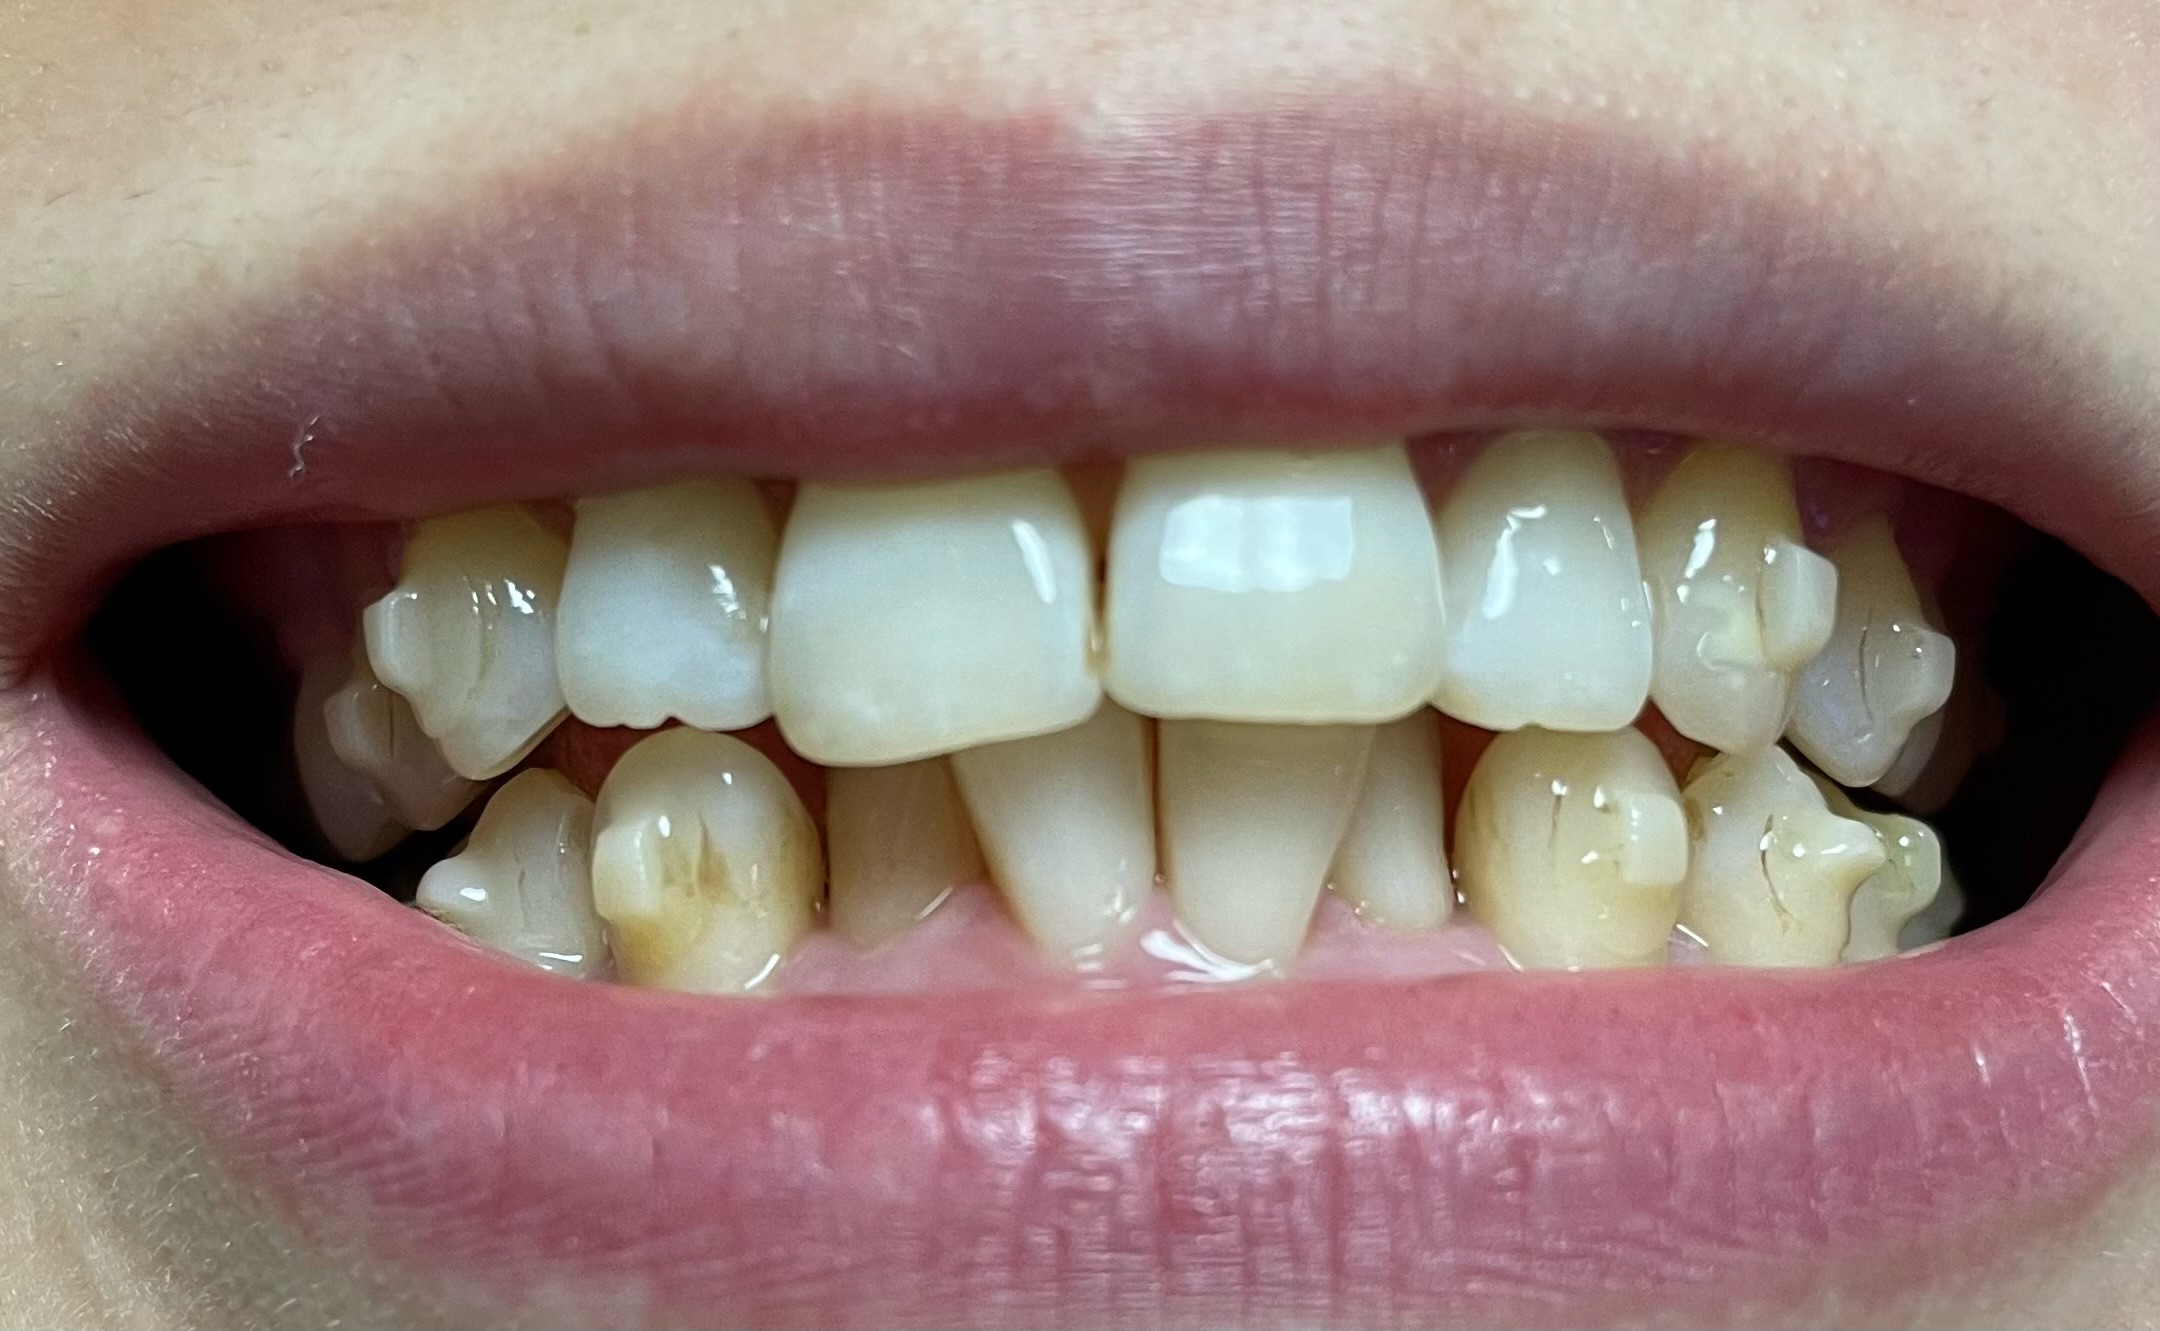teeth: (776, 473, 1106, 776), (1108, 438, 1446, 725), (1446, 423, 1649, 731), (596, 722, 819, 995), (1640, 443, 1827, 757), (1461, 731, 1686, 972), (1166, 725, 1385, 953), (568, 480, 768, 719), (378, 514, 562, 770), (964, 706, 1154, 942), (1689, 751, 1864, 961), (421, 773, 596, 973), (1807, 518, 1932, 785), (824, 759, 987, 950), (1341, 709, 1461, 930), (339, 623, 452, 828), (296, 692, 383, 856), (1885, 632, 1955, 799), (1853, 807, 1930, 942)
